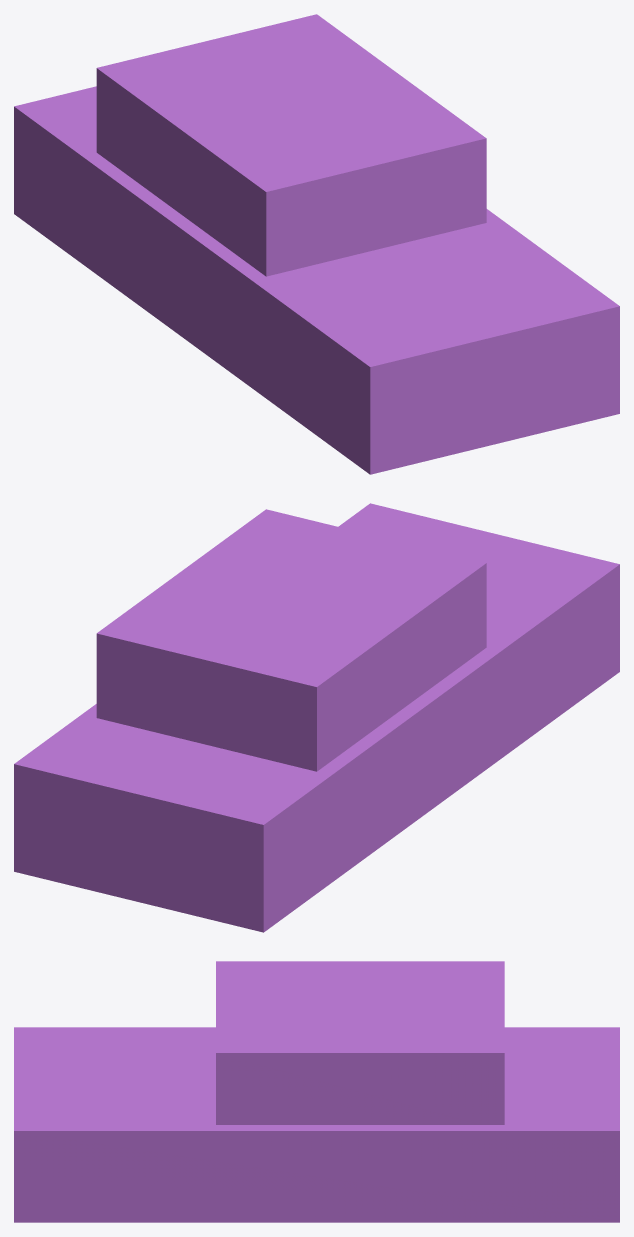
File: exemple.gltf
3 renders of one model, top to bottom at view 1: azimuth 30°, elevation 25°; view 2: azimuth 150°, elevation 25°; view 3: azimuth 270°, elevation 25°, orthographic. The views are drawn at different scales.
Parts seen in each view (by area): view 1: exemple; view 2: exemple; view 3: exemple.
Boxes of the visible parts, bbox=[...] form: exemple: bbox=[14, 14, 619, 474]; exemple: bbox=[14, 503, 619, 932]; exemple: bbox=[14, 961, 619, 1222].
Size of the model in its own units: 1.7 by 1.25 by 4.2.
